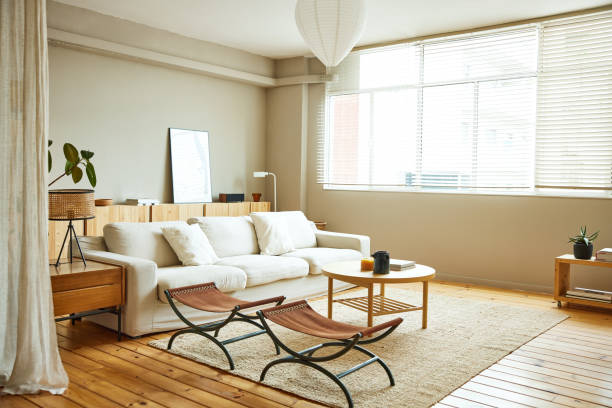chair: (257, 297, 402, 407), (163, 280, 287, 370)
floor lamp: (250, 168, 281, 212)
small plant: (567, 223, 602, 260)
sofa: (62, 207, 372, 334)
table: (320, 254, 437, 332)
table lamp: (47, 185, 97, 270)
wall art: (165, 125, 215, 203)
